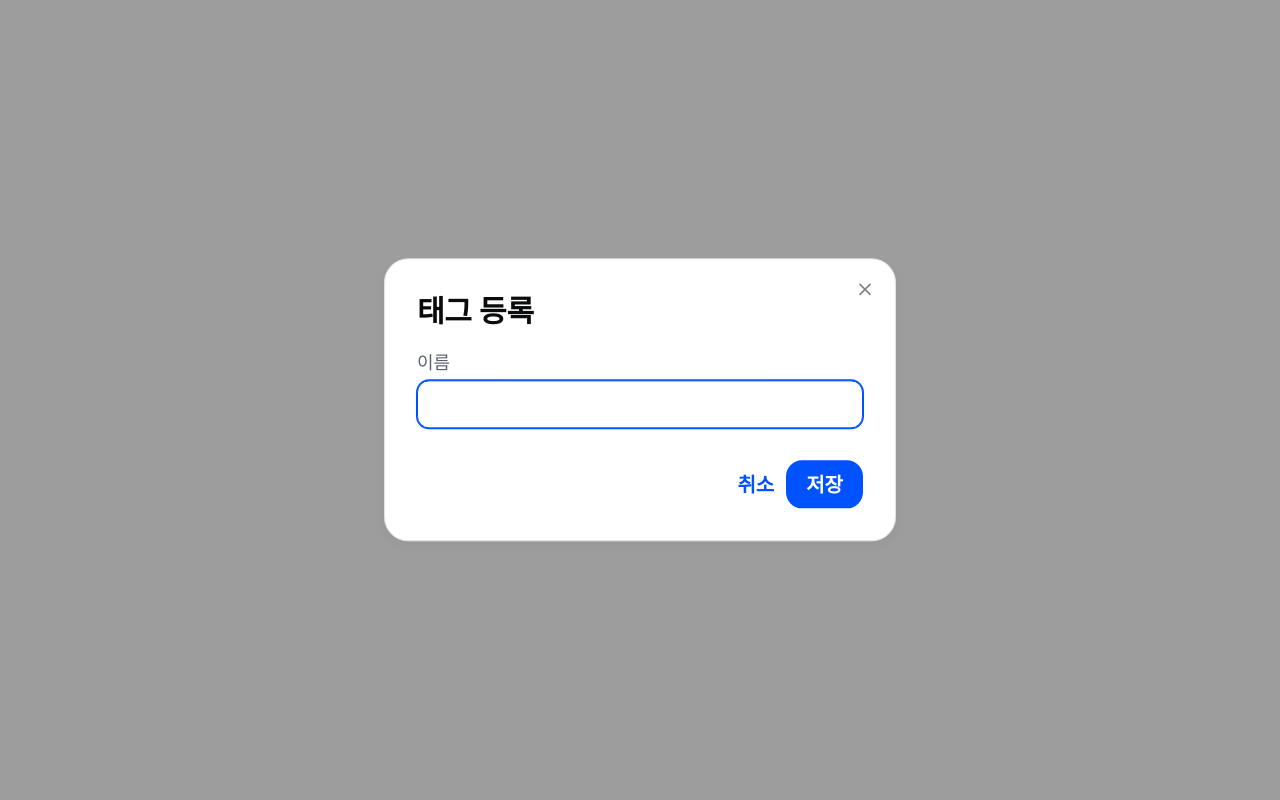
Test: TagFormDialog › 중복(409 DUPLICATE_RESOURCE)이면 name 인라인 에러·다이얼로그 유지
Type "중복" into the field labelled "이름".
click(640, 405); type("중복")  # box [417,381,863,429]
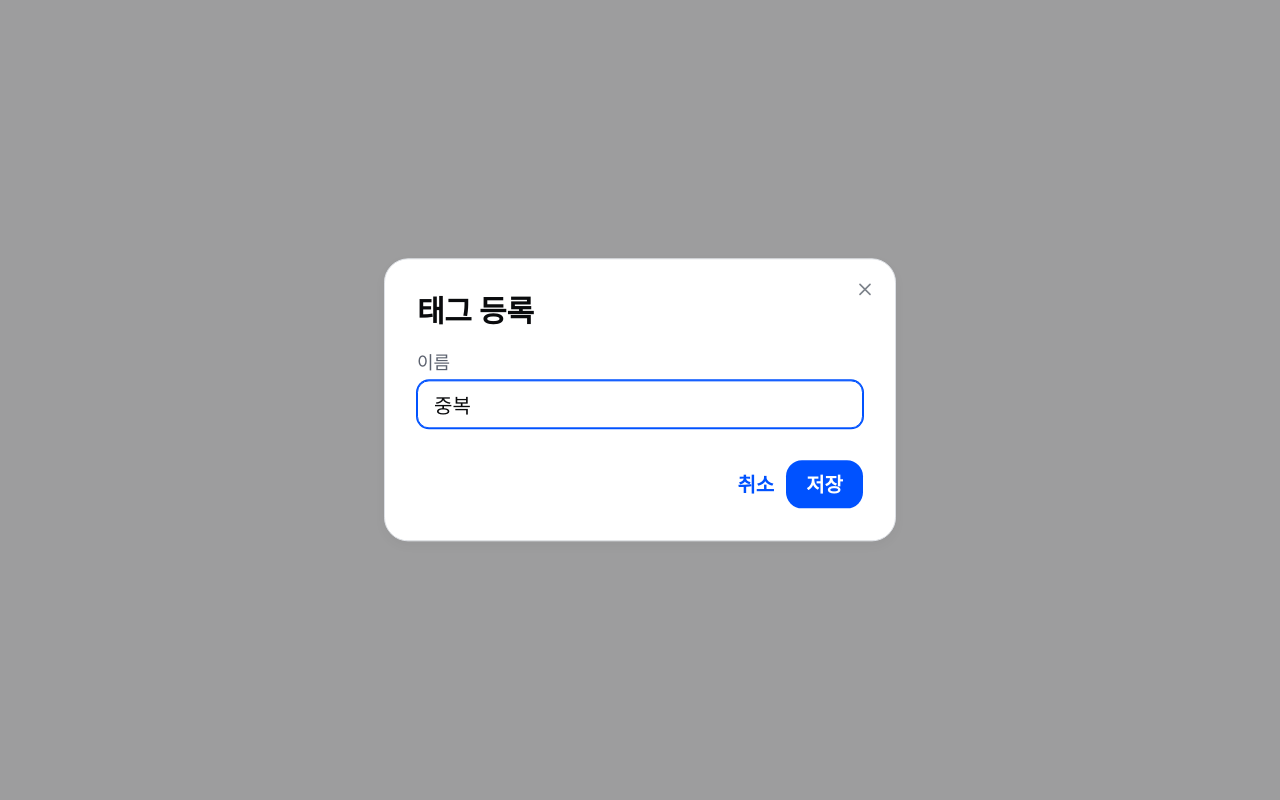
Click the button "저장".
click(825, 485)  # box [786,461,863,509]
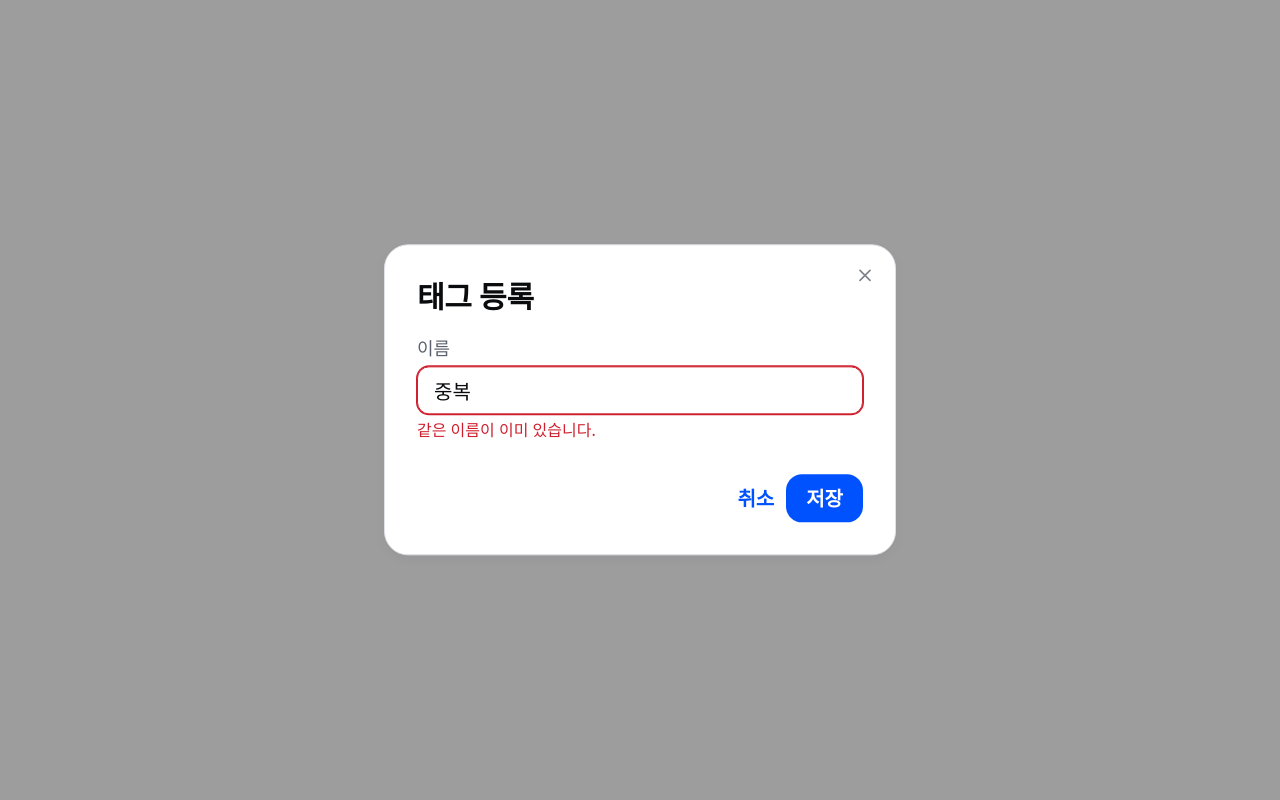
Expected: the text "같은 이름이 이미 있습니다." is shown, [417,420,596,442]
